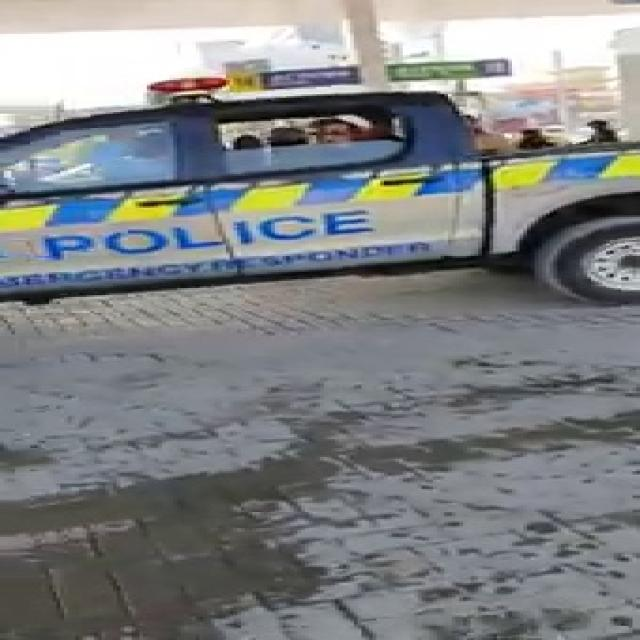police: (0, 2, 640, 300)
